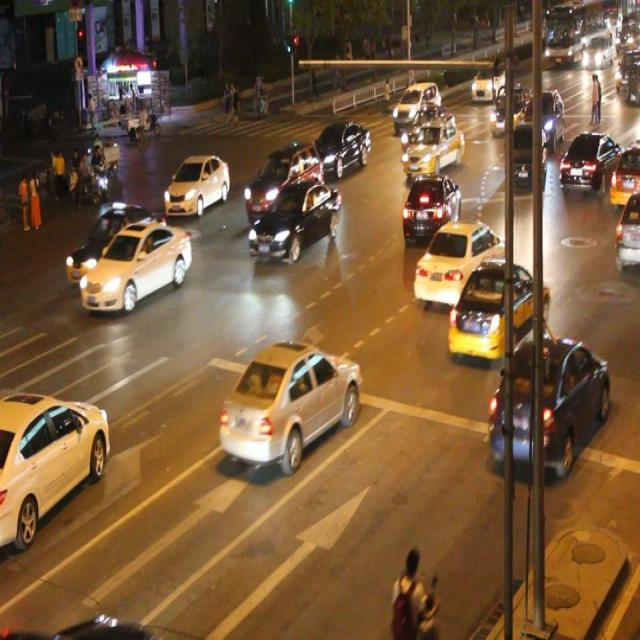car: (219, 340, 359, 469), (488, 336, 608, 473), (0, 390, 110, 524), (80, 219, 192, 312), (447, 261, 547, 359), (412, 218, 507, 305), (248, 178, 341, 264), (66, 206, 163, 283), (245, 144, 322, 219), (400, 169, 461, 249), (163, 155, 230, 216), (558, 128, 619, 194), (401, 118, 464, 176), (310, 120, 371, 176), (400, 103, 454, 157), (503, 120, 544, 184), (609, 141, 640, 205), (614, 193, 640, 267)
